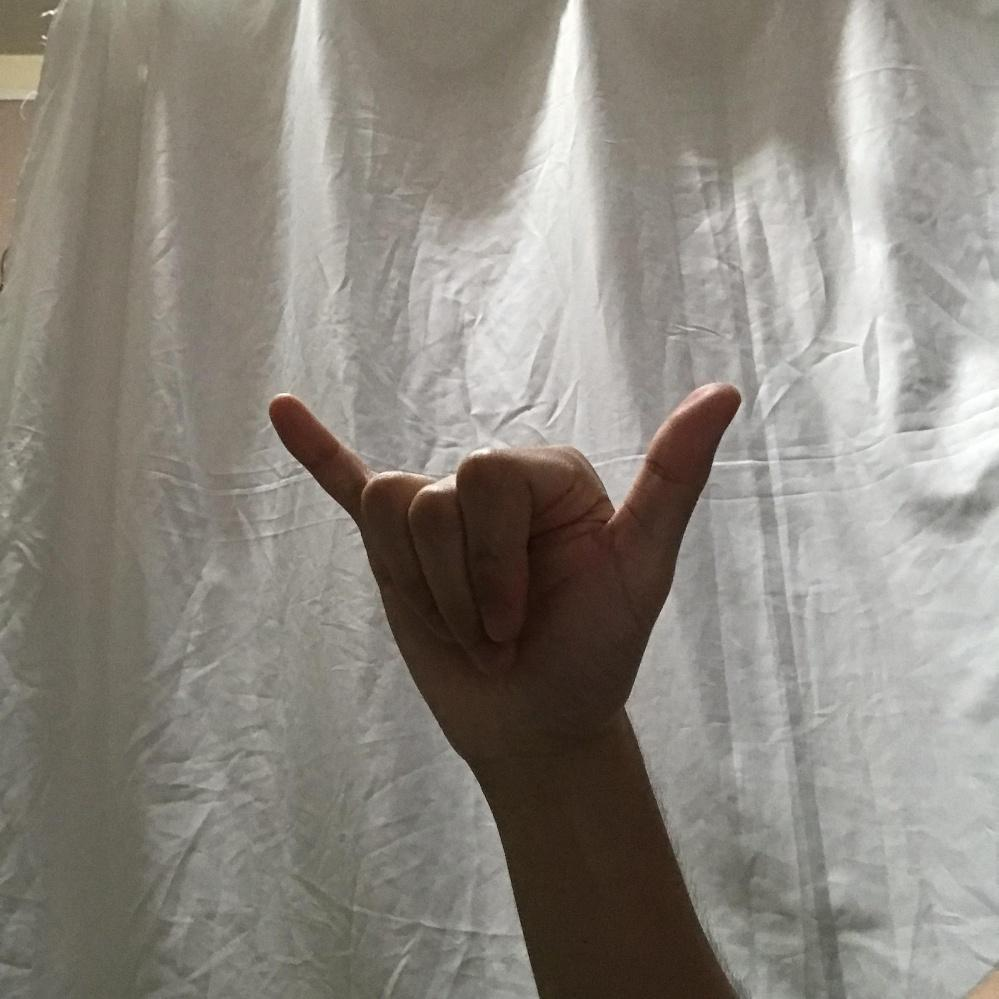y: (262, 381, 736, 730)
